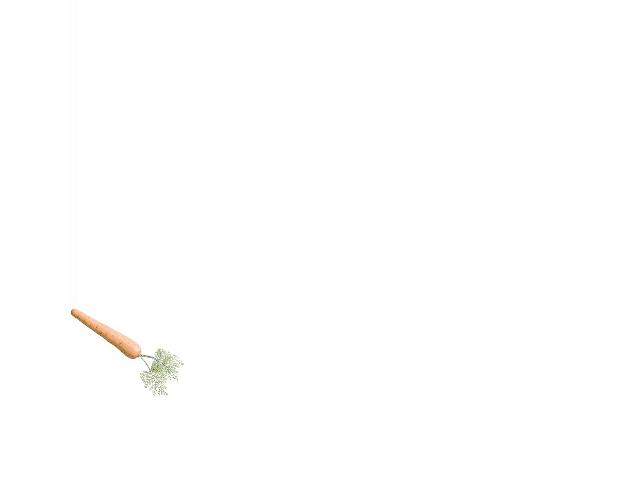carrot: (67, 306, 148, 361)
